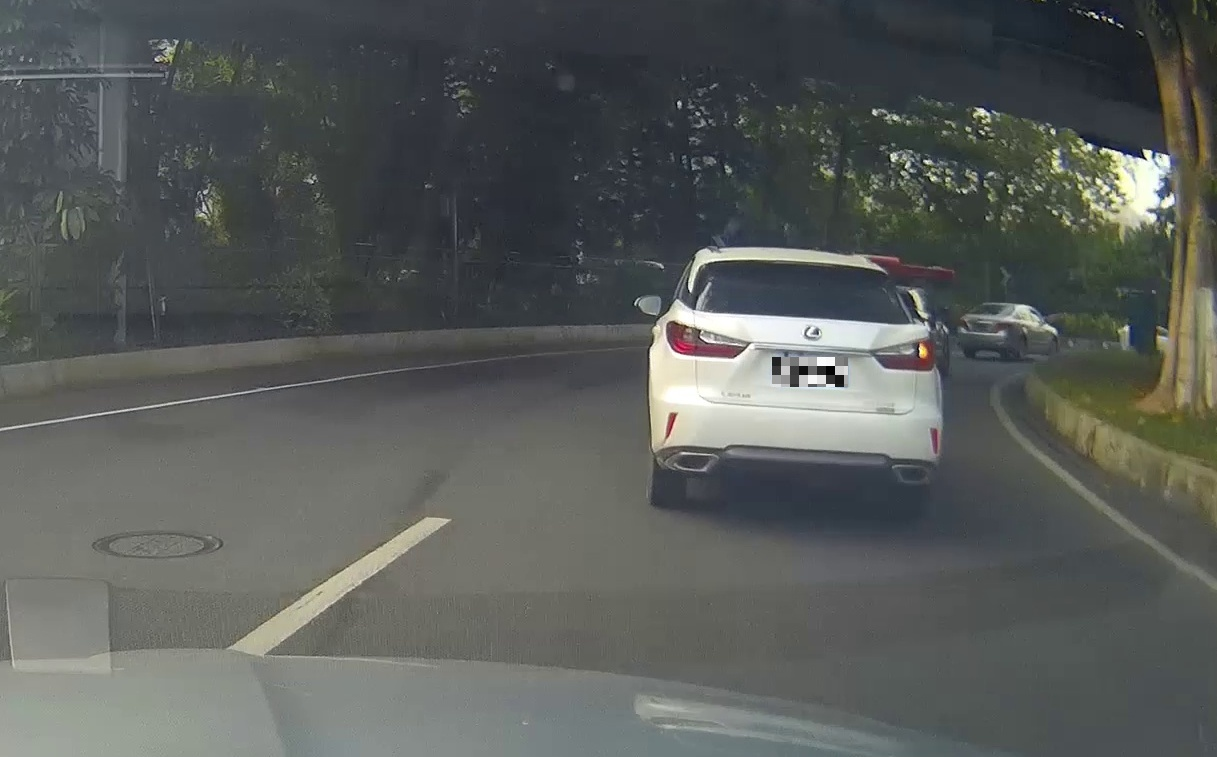L_light: (665, 320, 751, 359), (958, 319, 970, 330)
R_light: (870, 337, 936, 371), (993, 322, 1011, 331)
T_light: (787, 261, 825, 273), (989, 304, 1001, 308)
day-no: (957, 302, 1016, 360)
day-right: (646, 247, 942, 514)
plate_1: (772, 357, 848, 387)
